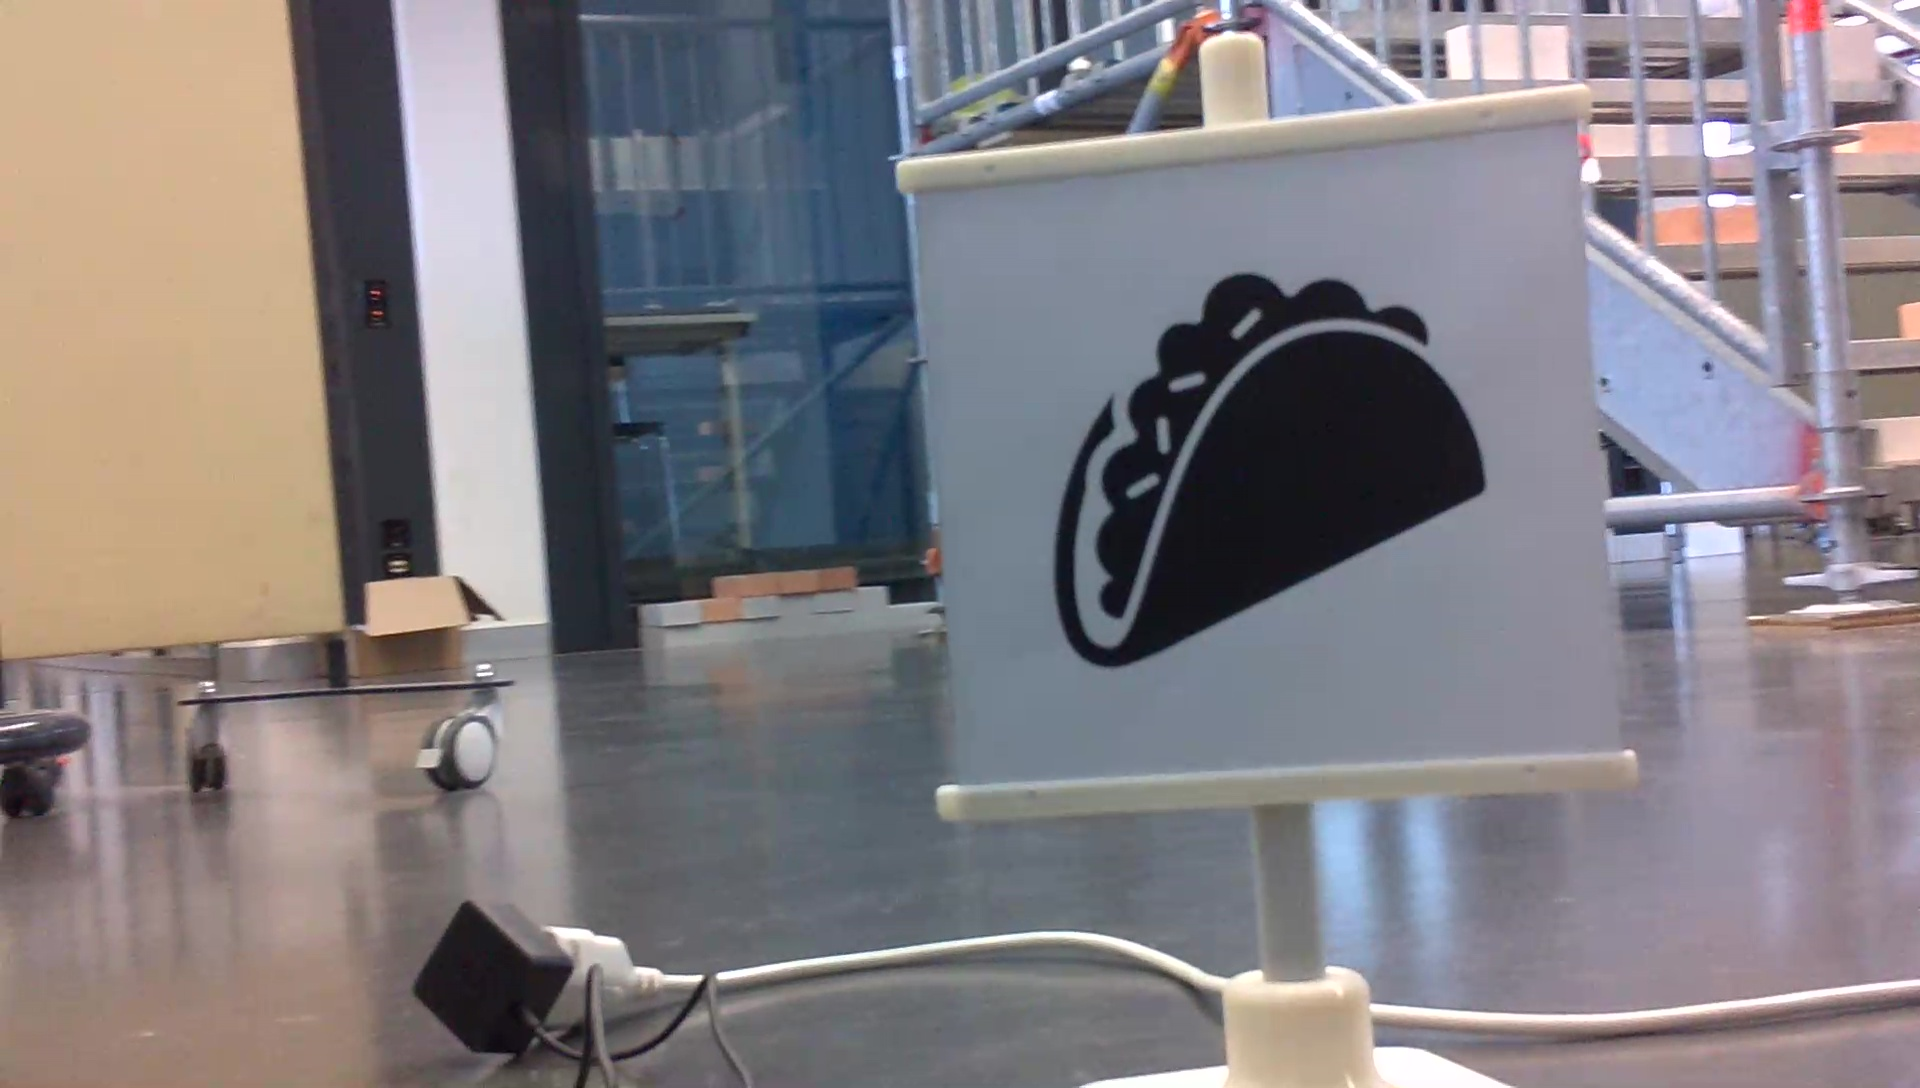taco: (1033, 262, 1505, 675)
